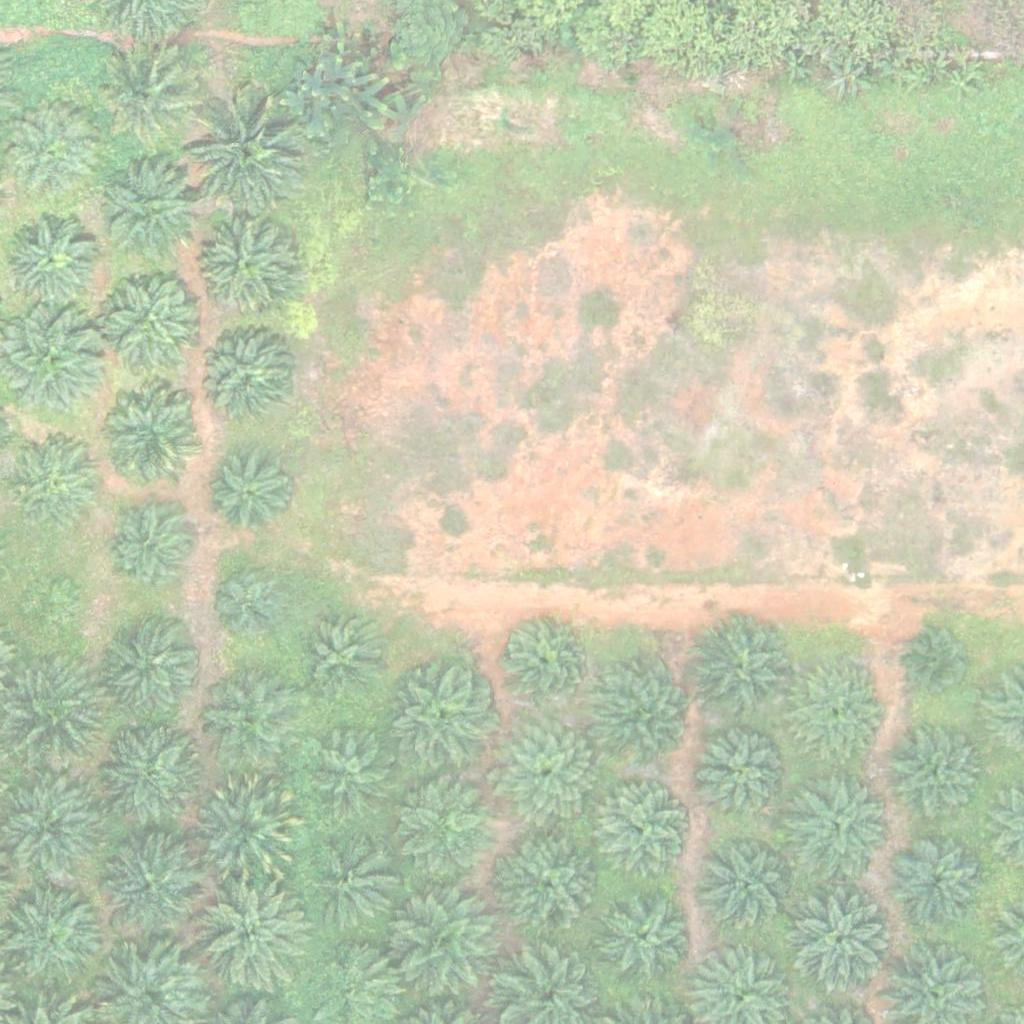Kelapa_Sawit: (94, 264, 207, 378), (492, 717, 605, 831), (496, 829, 609, 943), (190, 773, 303, 886), (93, 614, 206, 727), (194, 877, 307, 990), (192, 100, 304, 213), (97, 158, 209, 271), (94, 722, 206, 835), (394, 887, 506, 1000), (687, 614, 799, 727), (787, 884, 899, 997), (102, 48, 202, 149), (196, 214, 296, 315), (198, 670, 298, 771), (9, 433, 109, 534), (99, 835, 199, 936), (595, 669, 695, 770), (696, 728, 796, 829), (698, 834, 798, 935), (789, 666, 889, 767), (791, 772, 891, 873), (885, 724, 985, 825), (888, 832, 988, 933), (2, 101, 102, 201), (198, 328, 298, 428), (99, 388, 199, 488), (391, 669, 491, 769), (404, 779, 504, 879), (595, 778, 695, 878), (598, 889, 698, 989), (203, 452, 291, 540), (298, 614, 386, 702), (309, 844, 397, 932), (314, 734, 401, 822), (105, 504, 192, 592), (499, 617, 586, 705), (908, 627, 971, 690), (216, 572, 279, 635), (18, 575, 80, 638)
